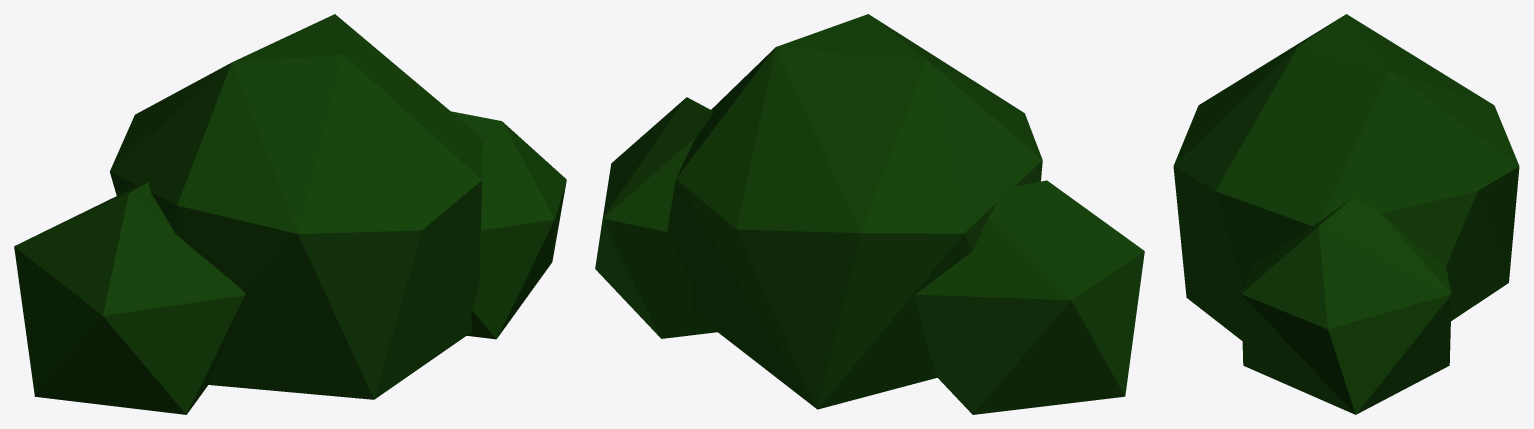
Rendered from Bush_6_Snow.glb.
3 renders of one model, left to right at view 1: azimuth 30°, elevation 25°; view 2: azimuth 150°, elevation 25°; view 3: azimuth 270°, elevation 25°, orthographic. The views are drawn at different scales.
Visible parts, largest first — view 1: Bush_6_Snow.001; view 2: Bush_6_Snow.001; view 3: Bush_6_Snow.001.
Boxes of the visible parts, left/top/right/bottom form: Bush_6_Snow.001: left=14, top=14, right=566, bottom=414; Bush_6_Snow.001: left=595, top=14, right=1144, bottom=414; Bush_6_Snow.001: left=1173, top=14, right=1519, bottom=414.
Size of the model in its own units: 2.28 by 1.22 by 1.44.
